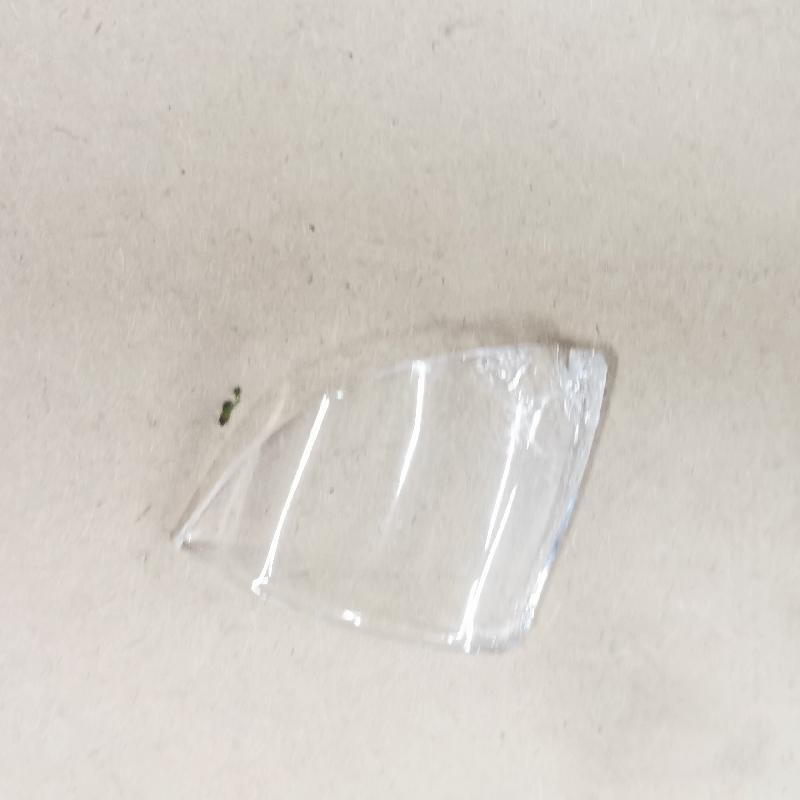glass: (161, 337, 621, 656)
